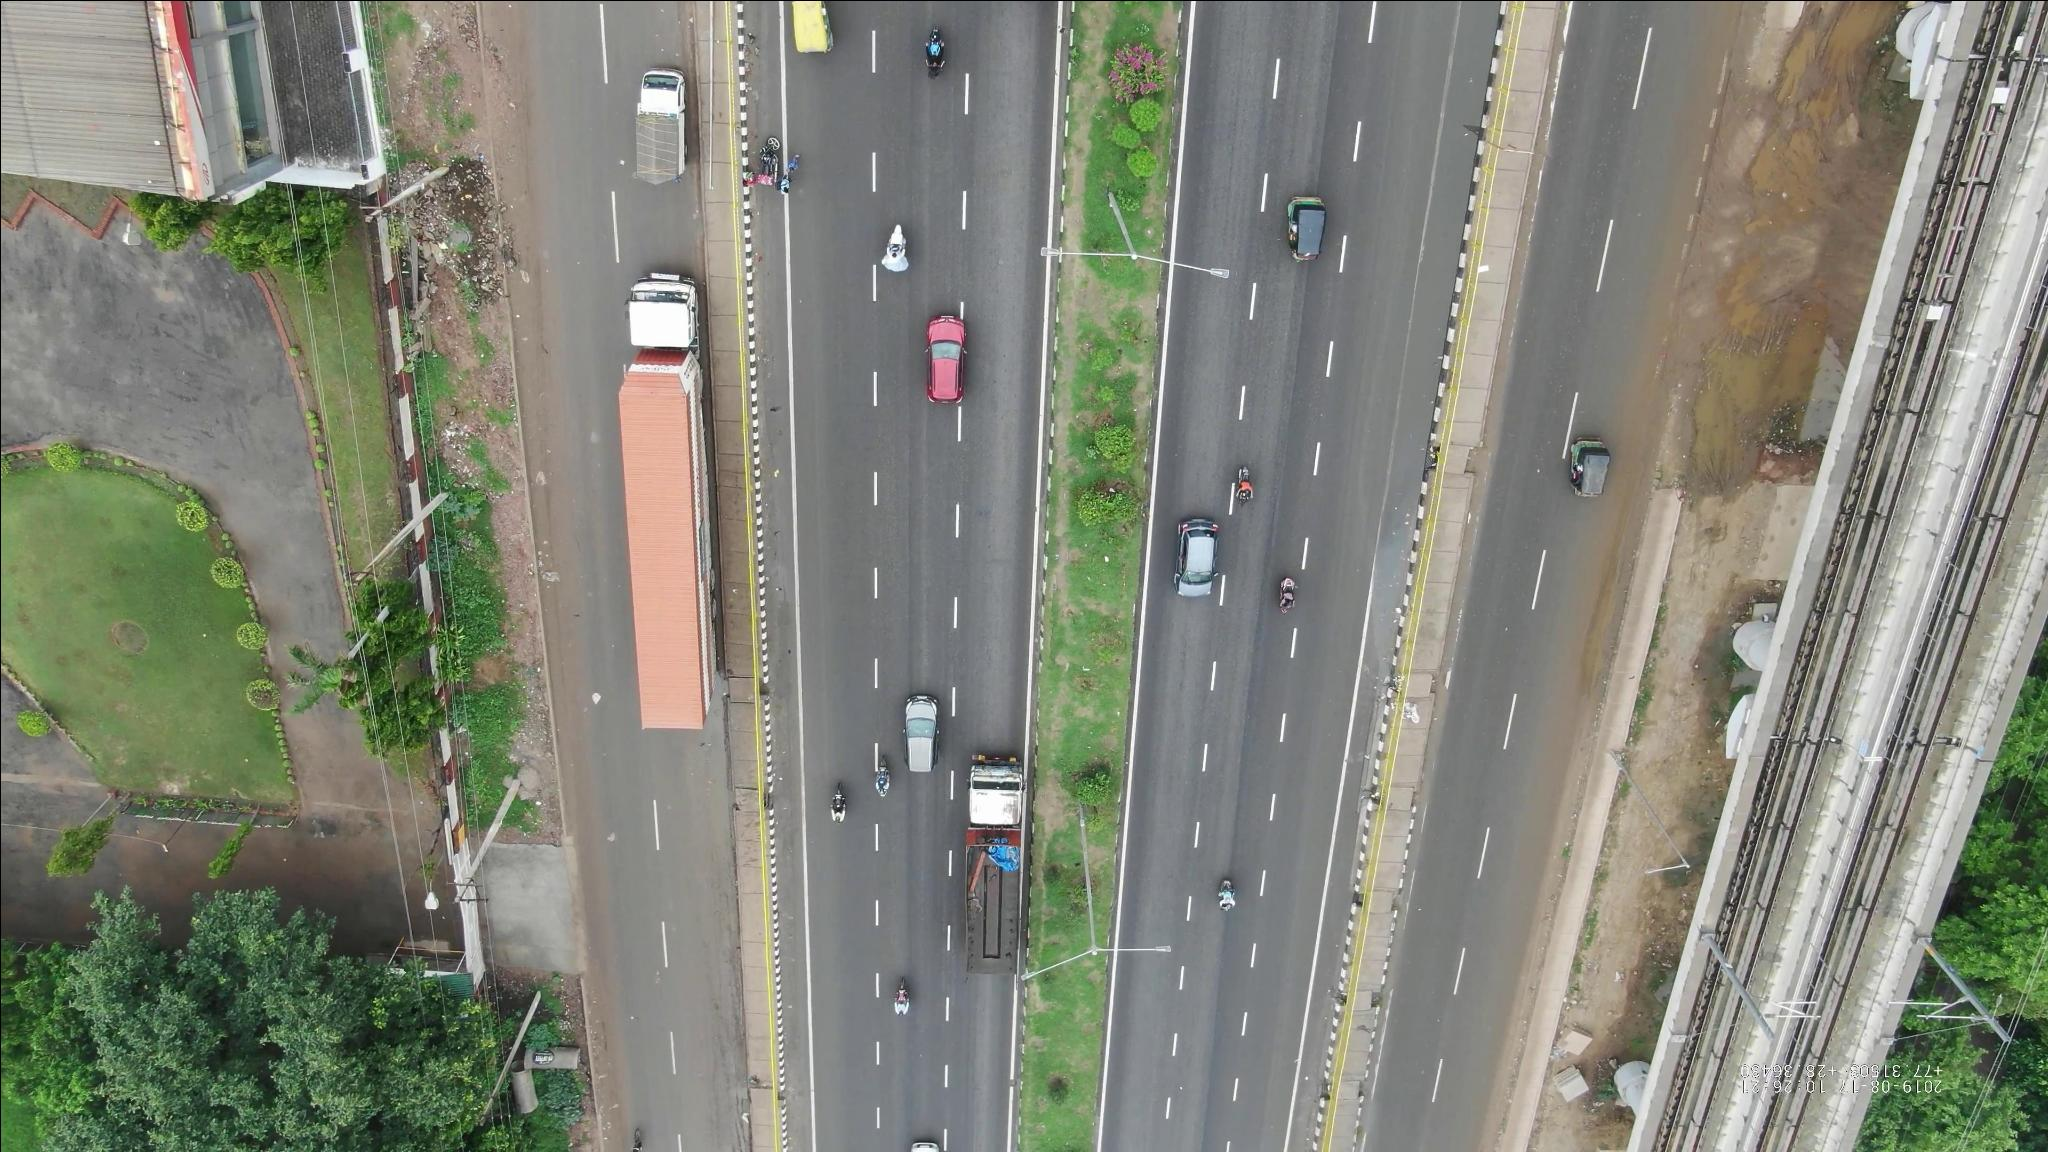Muddy_road: (509, 191, 587, 459), (543, 475, 615, 731), (691, 757, 738, 1004), (1574, 518, 1632, 678), (580, 982, 627, 1132), (699, 1025, 744, 1139)
Waterlogging: (1363, 522, 1409, 655)
